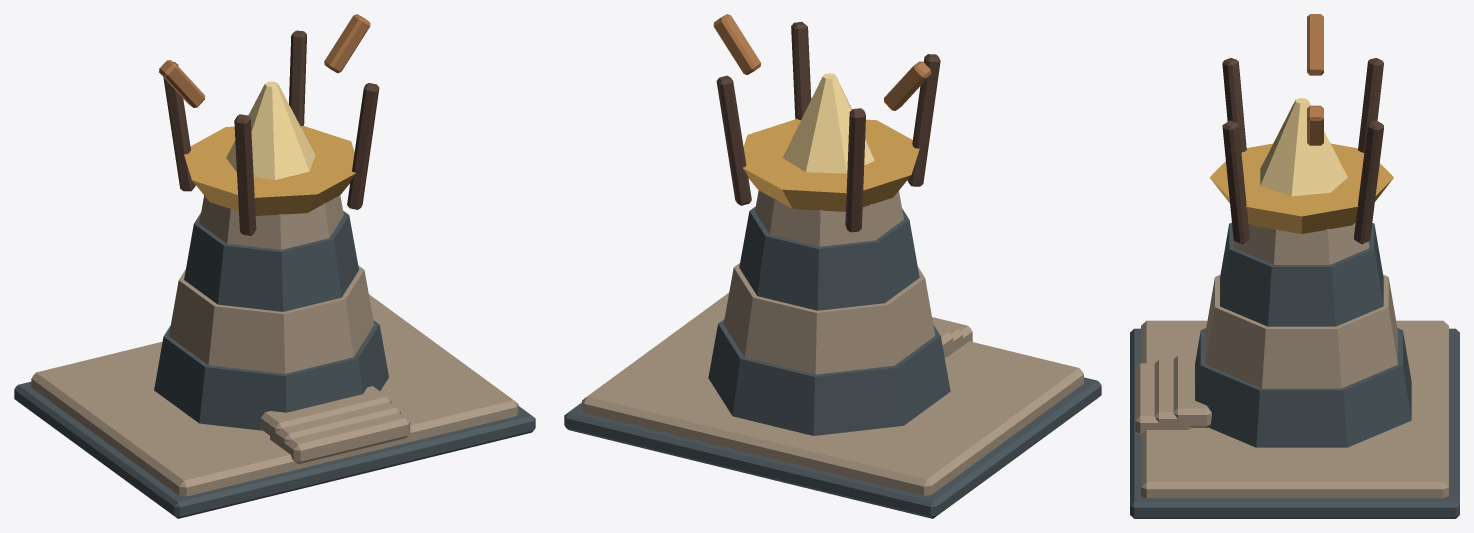
The model's file is fjord.glb.
3 views of the same model, side by side, from view 1: azimuth 30°, elevation 25°; view 2: azimuth 150°, elevation 25°; view 3: azimuth 270°, elevation 25° (orthographic). The views are drawn at different scales.
Parts seen in each view (by area): view 1: fjord-stone, fjord-slate, fjord-brass, fjord-dark, fjord-gold, fjord-oak; view 2: fjord-stone, fjord-slate, fjord-brass, fjord-dark, fjord-gold, fjord-oak; view 3: fjord-stone, fjord-slate, fjord-brass, fjord-dark, fjord-gold, fjord-oak.
Part boxes in pixels (x1=…): fjord-stone: x1=31, y1=195, x2=518, y2=496; fjord-slate: x1=14, y1=211, x2=535, y2=518; fjord-brass: x1=184, y1=125, x2=355, y2=215; fjord-dark: x1=163, y1=30, x2=379, y2=235; fjord-gold: x1=226, y1=81, x2=315, y2=179; fjord-oak: x1=159, y1=14, x2=370, y2=107; fjord-stone: x1=582, y1=190, x2=1083, y2=495; fjord-slate: x1=564, y1=206, x2=1101, y2=518; fjord-brass: x1=742, y1=119, x2=919, y2=211; fjord-dark: x1=716, y1=21, x2=940, y2=232; fjord-gold: x1=783, y1=73, x2=874, y2=173; fjord-oak: x1=713, y1=14, x2=931, y2=110; fjord-stone: x1=1135, y1=222, x2=1448, y2=498; fjord-slate: x1=1130, y1=222, x2=1459, y2=518; fjord-brass: x1=1209, y1=143, x2=1393, y2=233; fjord-dark: x1=1222, y1=58, x2=1383, y2=244; fjord-gold: x1=1260, y1=98, x2=1347, y2=196; fjord-oak: x1=1307, y1=14, x2=1323, y2=145.
Size of the model in its own units: 2.45 by 2.4 by 1.93.
